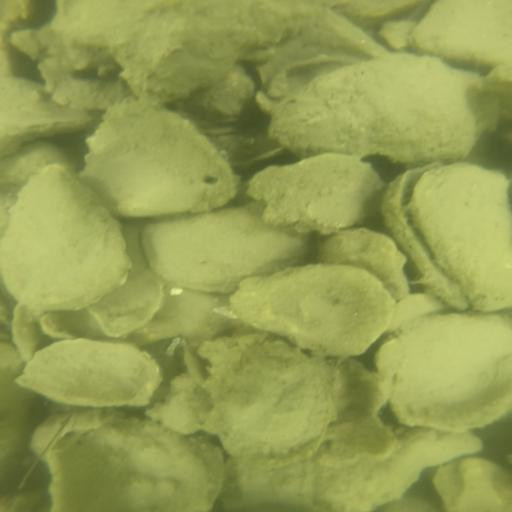Oyster-Closed: (219, 428, 488, 512), (111, 1, 323, 102), (271, 56, 472, 161), (381, 160, 512, 316), (79, 95, 244, 218), (1, 165, 130, 316), (378, 313, 512, 432), (232, 266, 396, 360), (204, 345, 327, 455), (8, 335, 168, 410), (1, 78, 95, 161), (322, 225, 413, 304), (405, 1, 512, 68), (86, 282, 168, 340)
Oyster-Open: (129, 205, 310, 298)
